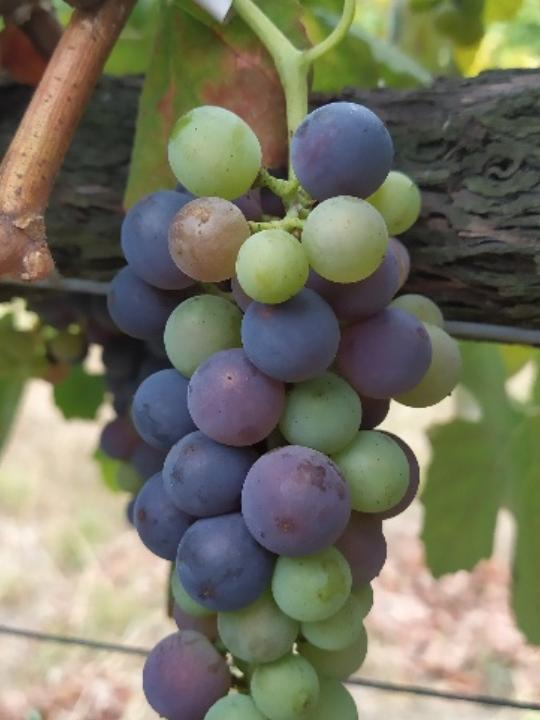grape: (104, 98, 469, 720)
